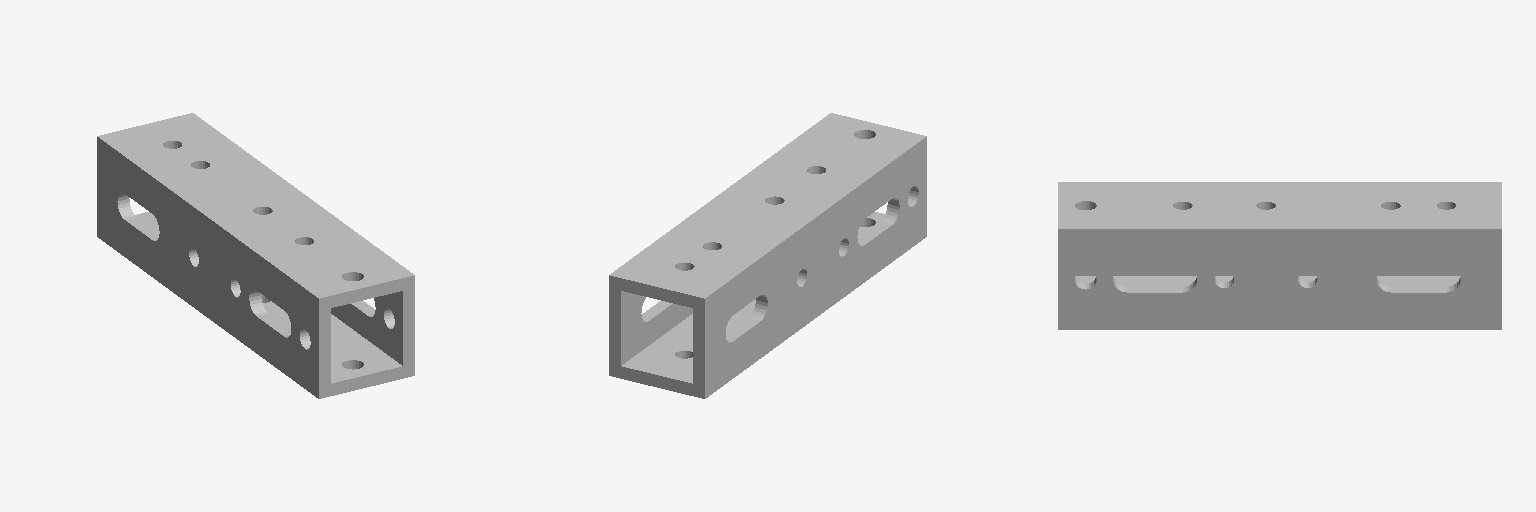
Rendered from _x1_alum_tube_07__x1_alum_tube.obj.
The picture shows the model from 3 angles: view 1: azimuth 30°, elevation 25°; view 2: azimuth 150°, elevation 25°; view 3: azimuth 270°, elevation 25°; orthographic projection.
Size of the model in its own units: 0.0254 by 0.0254 by 0.1016.